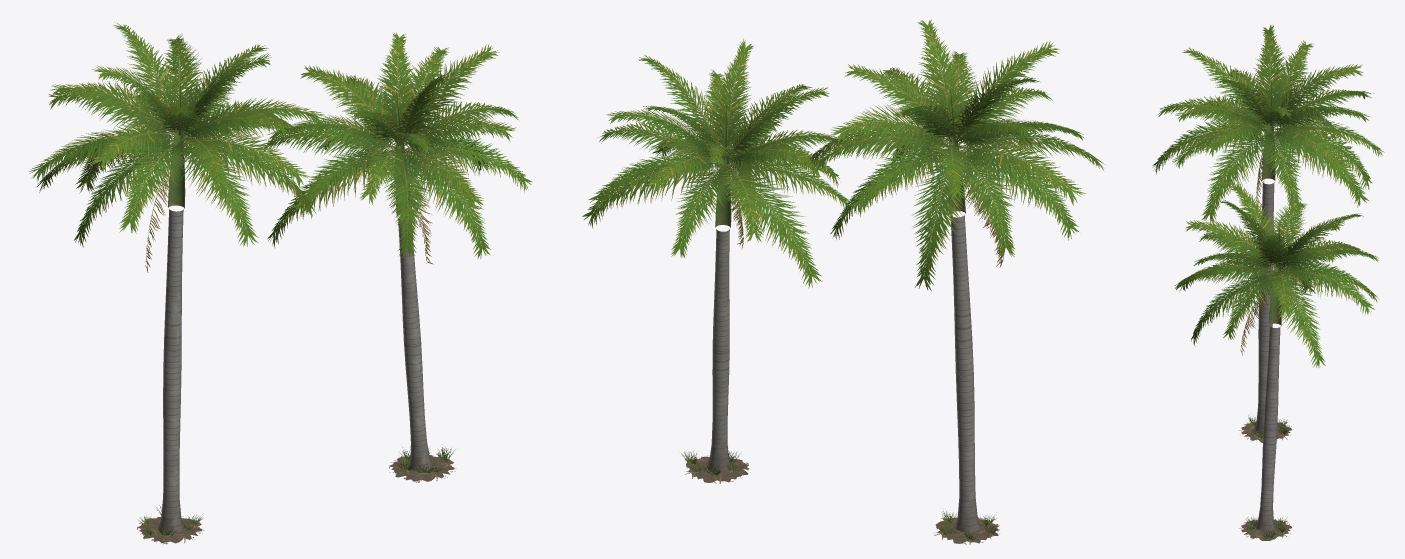
File: royal_palm.glb
3 views of the same model, side by side, from view 1: azimuth 30°, elevation 25°; view 2: azimuth 150°, elevation 25°; view 3: azimuth 270°, elevation 25° (orthographic). The views are drawn at different scales.
Visible parts, largest first — view 1: variant_a_lod0, variant_b_lod0; view 2: variant_a_lod0, variant_b_lod0; view 3: variant_a_lod0, variant_b_lod0.
Boxes of the visible parts, x1,y1,x2,y2 form: variant_a_lod0: (29,22,325,544); variant_b_lod0: (261,32,532,482); variant_a_lod0: (804,19,1104,544); variant_b_lod0: (582,38,849,483); variant_a_lod0: (1152,25,1384,442); variant_b_lod0: (1174,182,1379,540).
Size of what is drawn, in the model's own units: 14.08 by 12.98 by 7.35.
2 materials, 2 textured.
